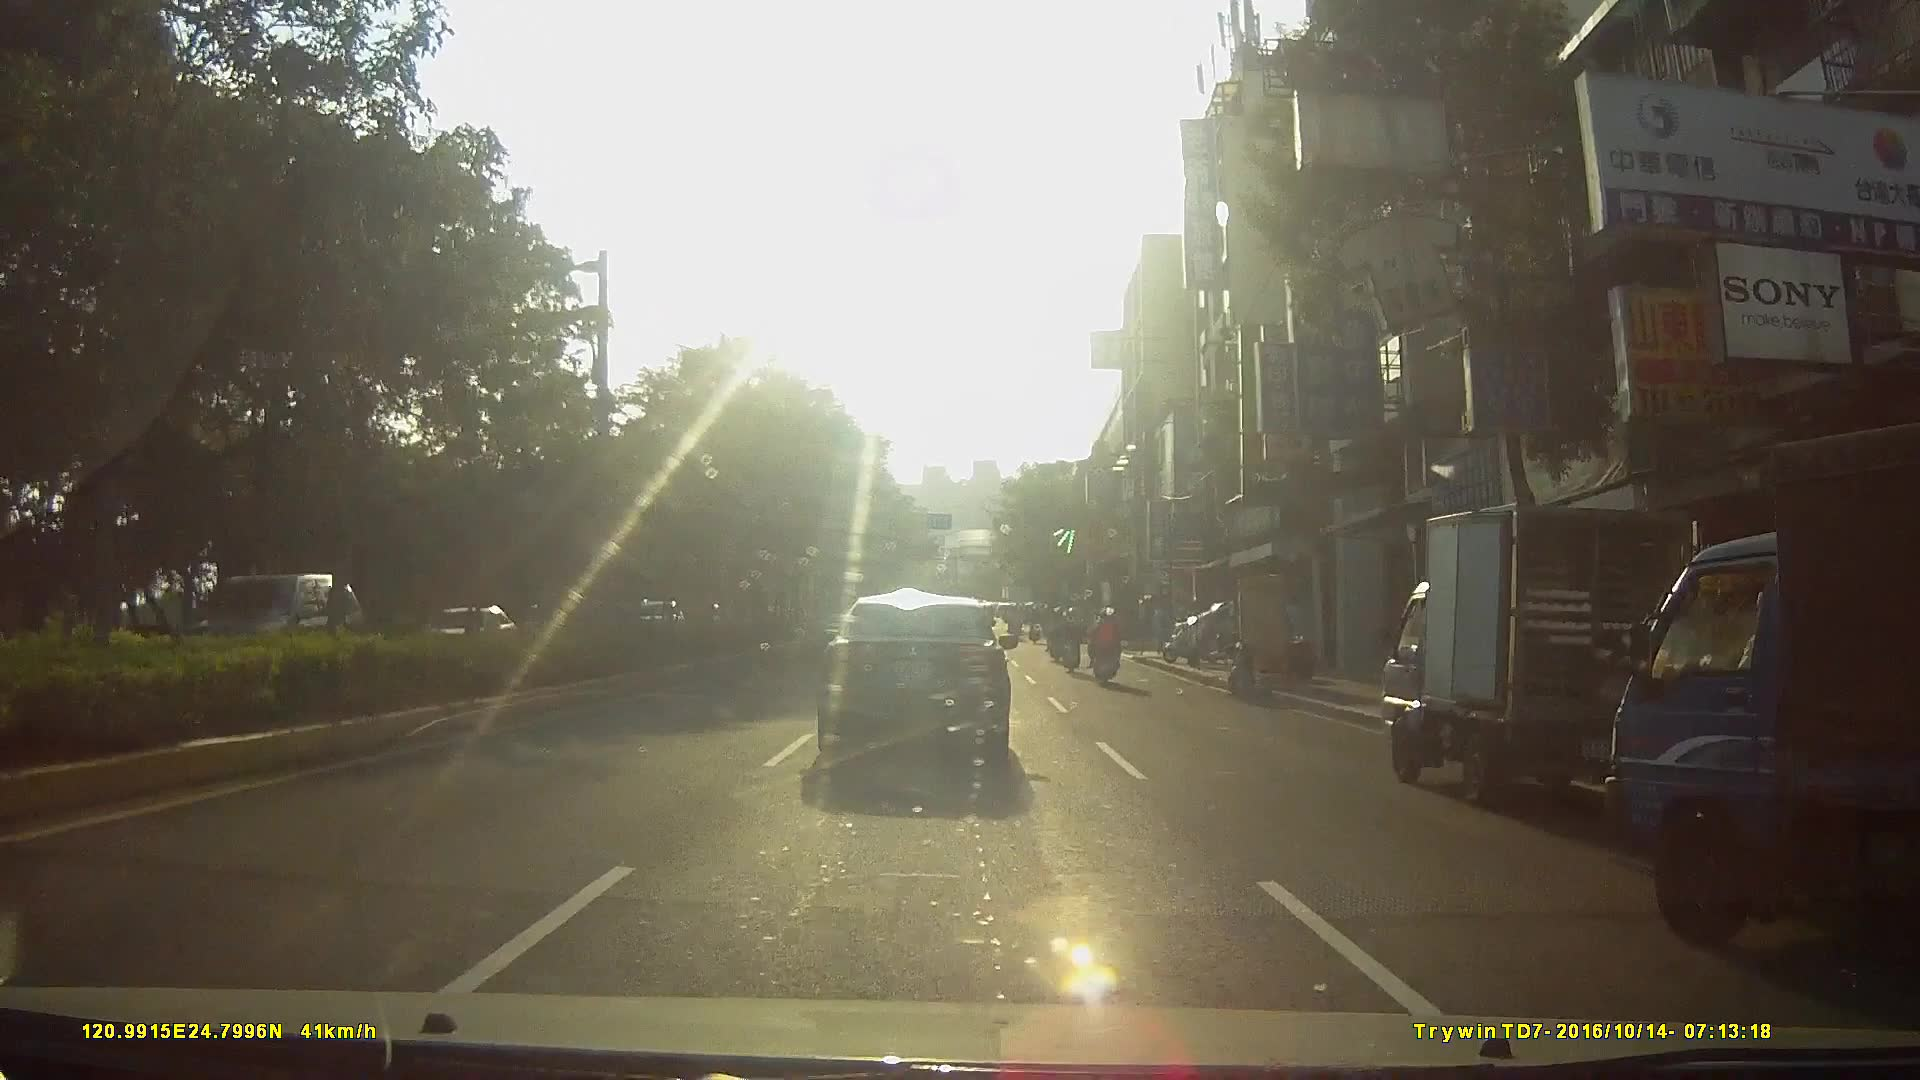rider: (1086, 608, 1124, 687), (1057, 605, 1085, 675), (1046, 606, 1067, 664)
vehicle: (1602, 422, 1920, 971), (1370, 492, 1709, 807), (811, 592, 1024, 785), (167, 573, 370, 683)
